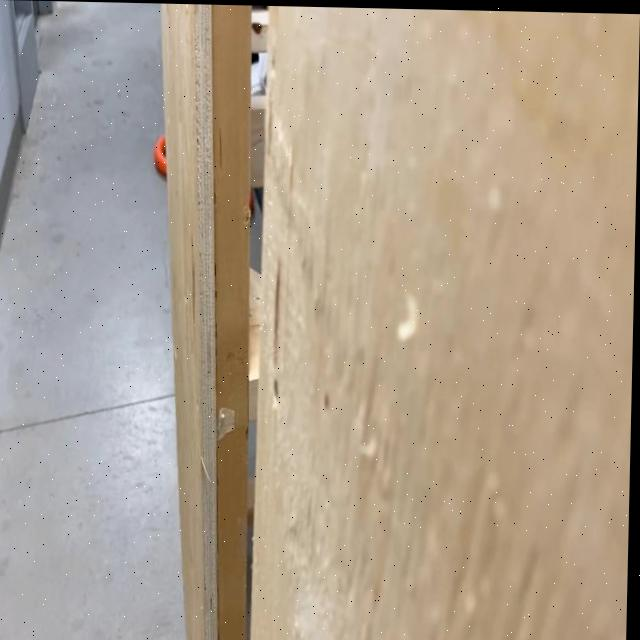note: (152, 132, 169, 179)
